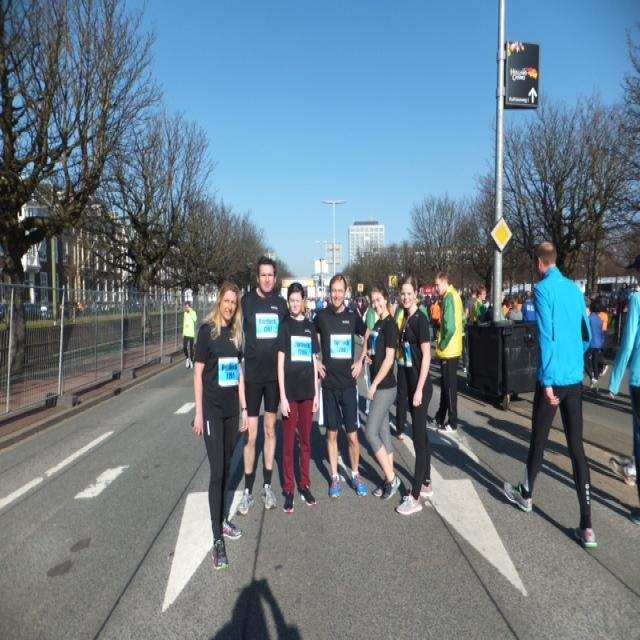body: (199, 384, 637, 549), (500, 236, 601, 552), (191, 276, 251, 573), (308, 269, 371, 503), (234, 252, 288, 519), (391, 268, 436, 517), (275, 278, 322, 514), (361, 278, 403, 502), (421, 269, 465, 436), (601, 279, 636, 368), (584, 300, 604, 389), (425, 350, 471, 386), (504, 298, 523, 366), (180, 299, 198, 369), (302, 287, 332, 320), (499, 288, 528, 317), (472, 283, 491, 324), (344, 291, 371, 317), (520, 289, 537, 324), (415, 284, 442, 305), (464, 286, 479, 322), (582, 284, 601, 312), (428, 298, 440, 342), (388, 284, 401, 313)
